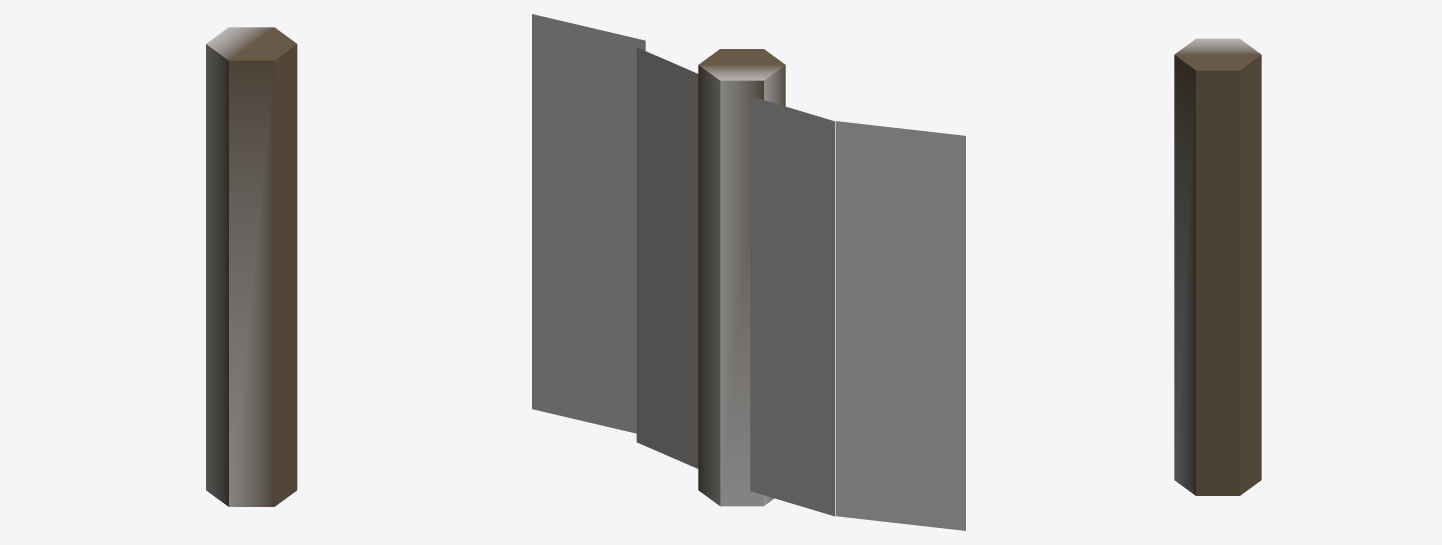
Rendered from capture_flag.glb.
3 views of the same model, side by side, from view 1: azimuth 30°, elevation 25°; view 2: azimuth 150°, elevation 25°; view 3: azimuth 330°, elevation 25° (orthographic). The views are drawn at different scales.
Visible parts, largest first — view 1: capture_flag; view 2: capture_flag; view 3: capture_flag.
Boxes of the visible parts, <box> form: capture_flag: <box>206,27,297,506</box>; capture_flag: <box>532,14,965,530</box>; capture_flag: <box>1174,38,1261,495</box>.
Bounding box in the file's own units: 1.55 × 1.4 × 0.26.
